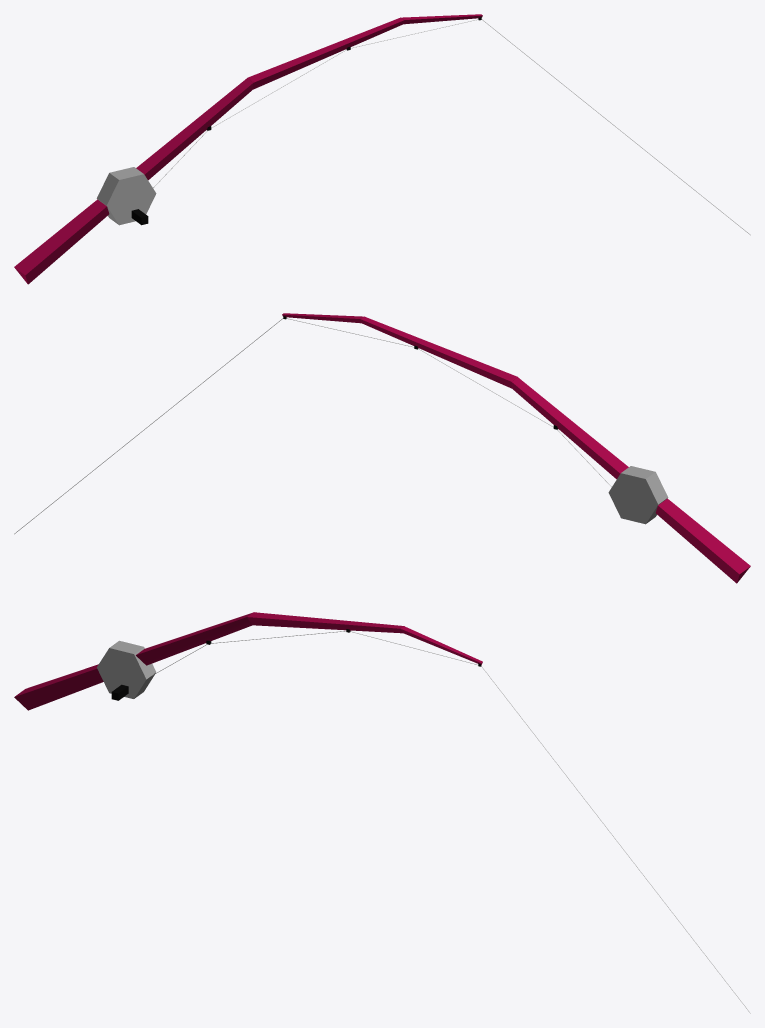
The model's file is fishing_rod.glb.
3 views of the same model, one above another, from view 1: azimuth 30°, elevation 25°; view 2: azimuth 150°, elevation 25°; view 3: azimuth 330°, elevation 25° (orthographic).
Visible parts, largest first — view 1: fishingrod_obj_cleaner_materialmerger_gles; view 2: fishingrod_obj_cleaner_materialmerger_gles; view 3: fishingrod_obj_cleaner_materialmerger_gles.
Part boxes in pixels (x1,y1,x2,y2): fishingrod_obj_cleaner_materialmerger_gles: [14, 14, 750, 284]; fishingrod_obj_cleaner_materialmerger_gles: [14, 313, 750, 583]; fishingrod_obj_cleaner_materialmerger_gles: [14, 612, 750, 1013].
Bounding box in the file's own units: 846 × 333 × 41.41.
